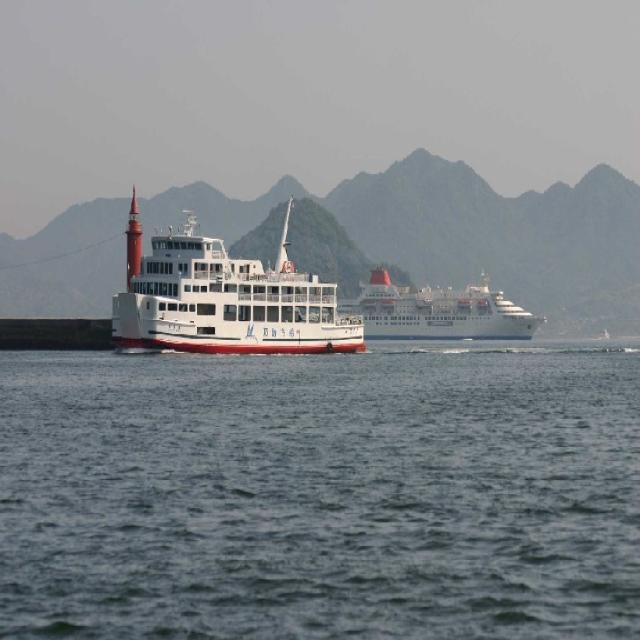passenger ship: (103, 199, 366, 367), (343, 226, 552, 348)
